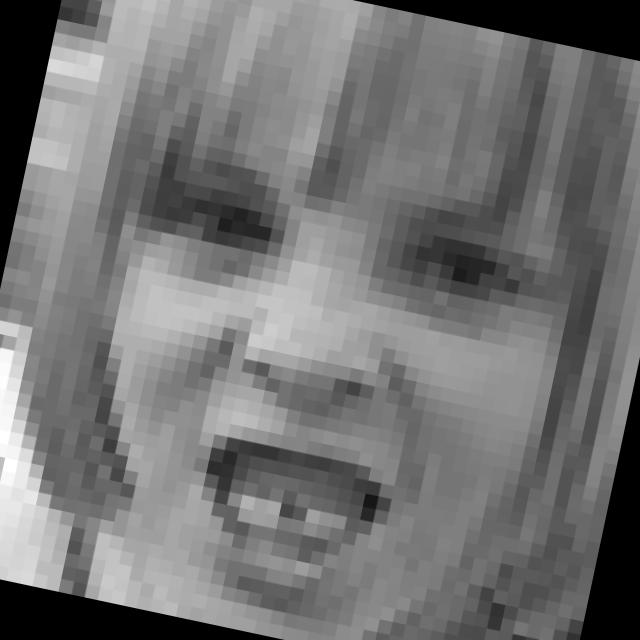angry: (92, 133, 550, 608)
